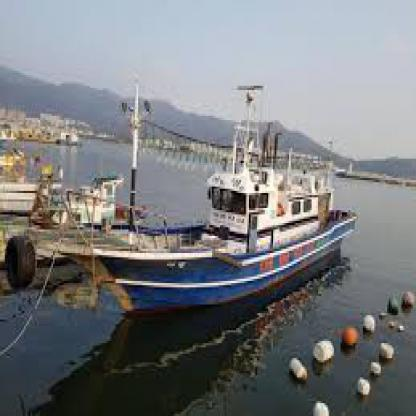fish-b: (56, 77, 373, 324)
